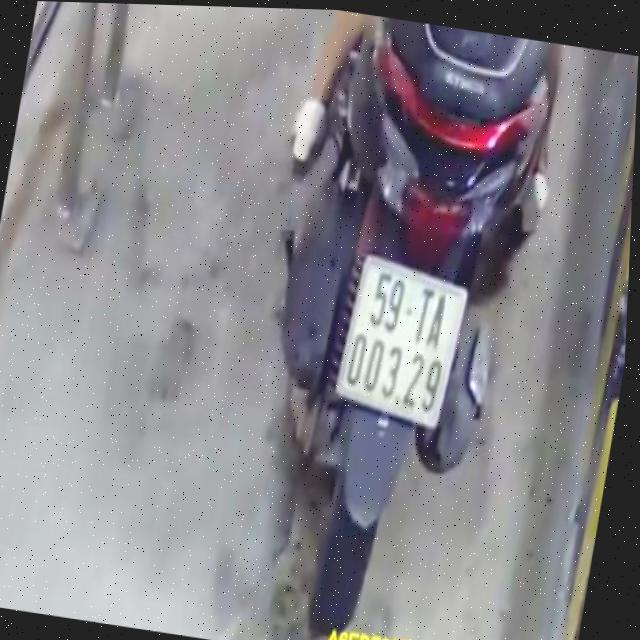motorcycle: (226, 16, 576, 640)
plate: (327, 242, 474, 432)
